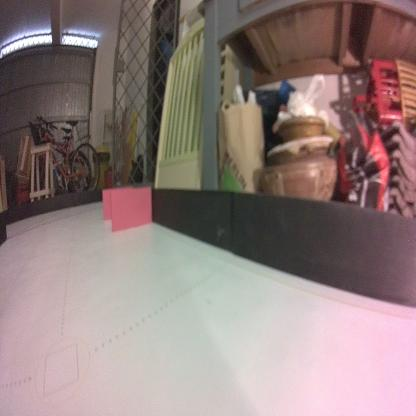magenta: (110, 185, 150, 234), (102, 186, 135, 222)
